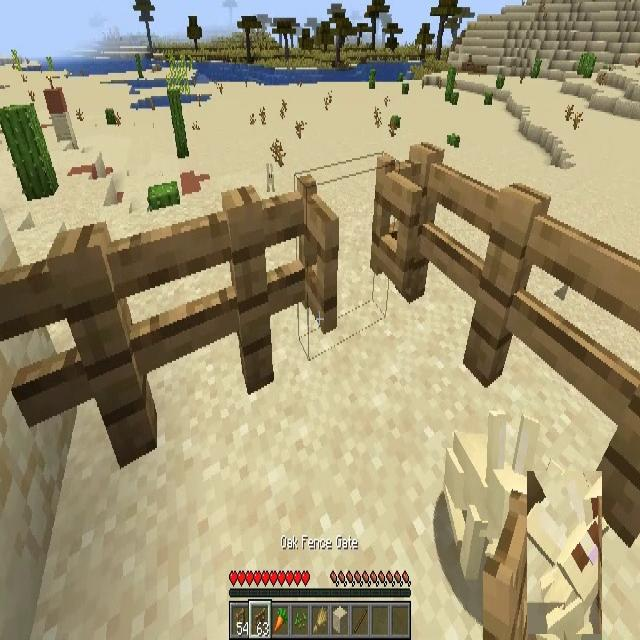rabbit: (442, 430, 540, 587), (527, 471, 602, 634), (266, 160, 276, 197)
